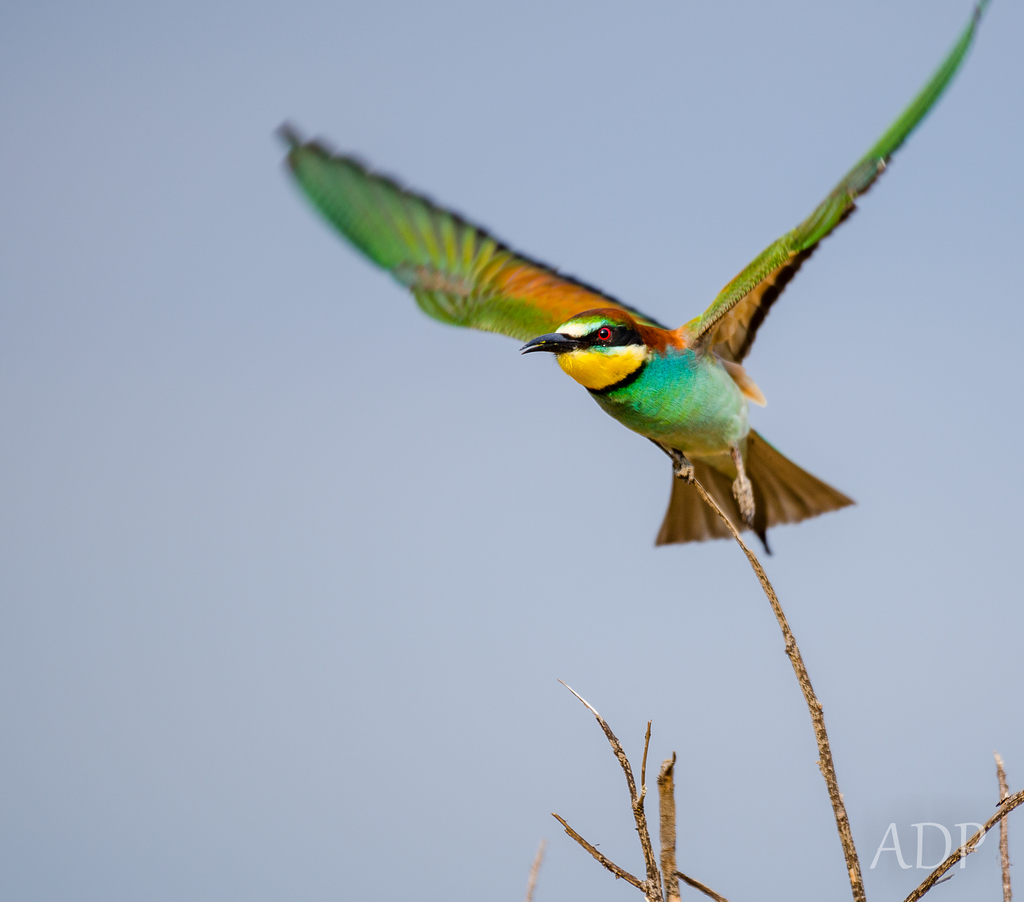person: (521, 218, 813, 479)
